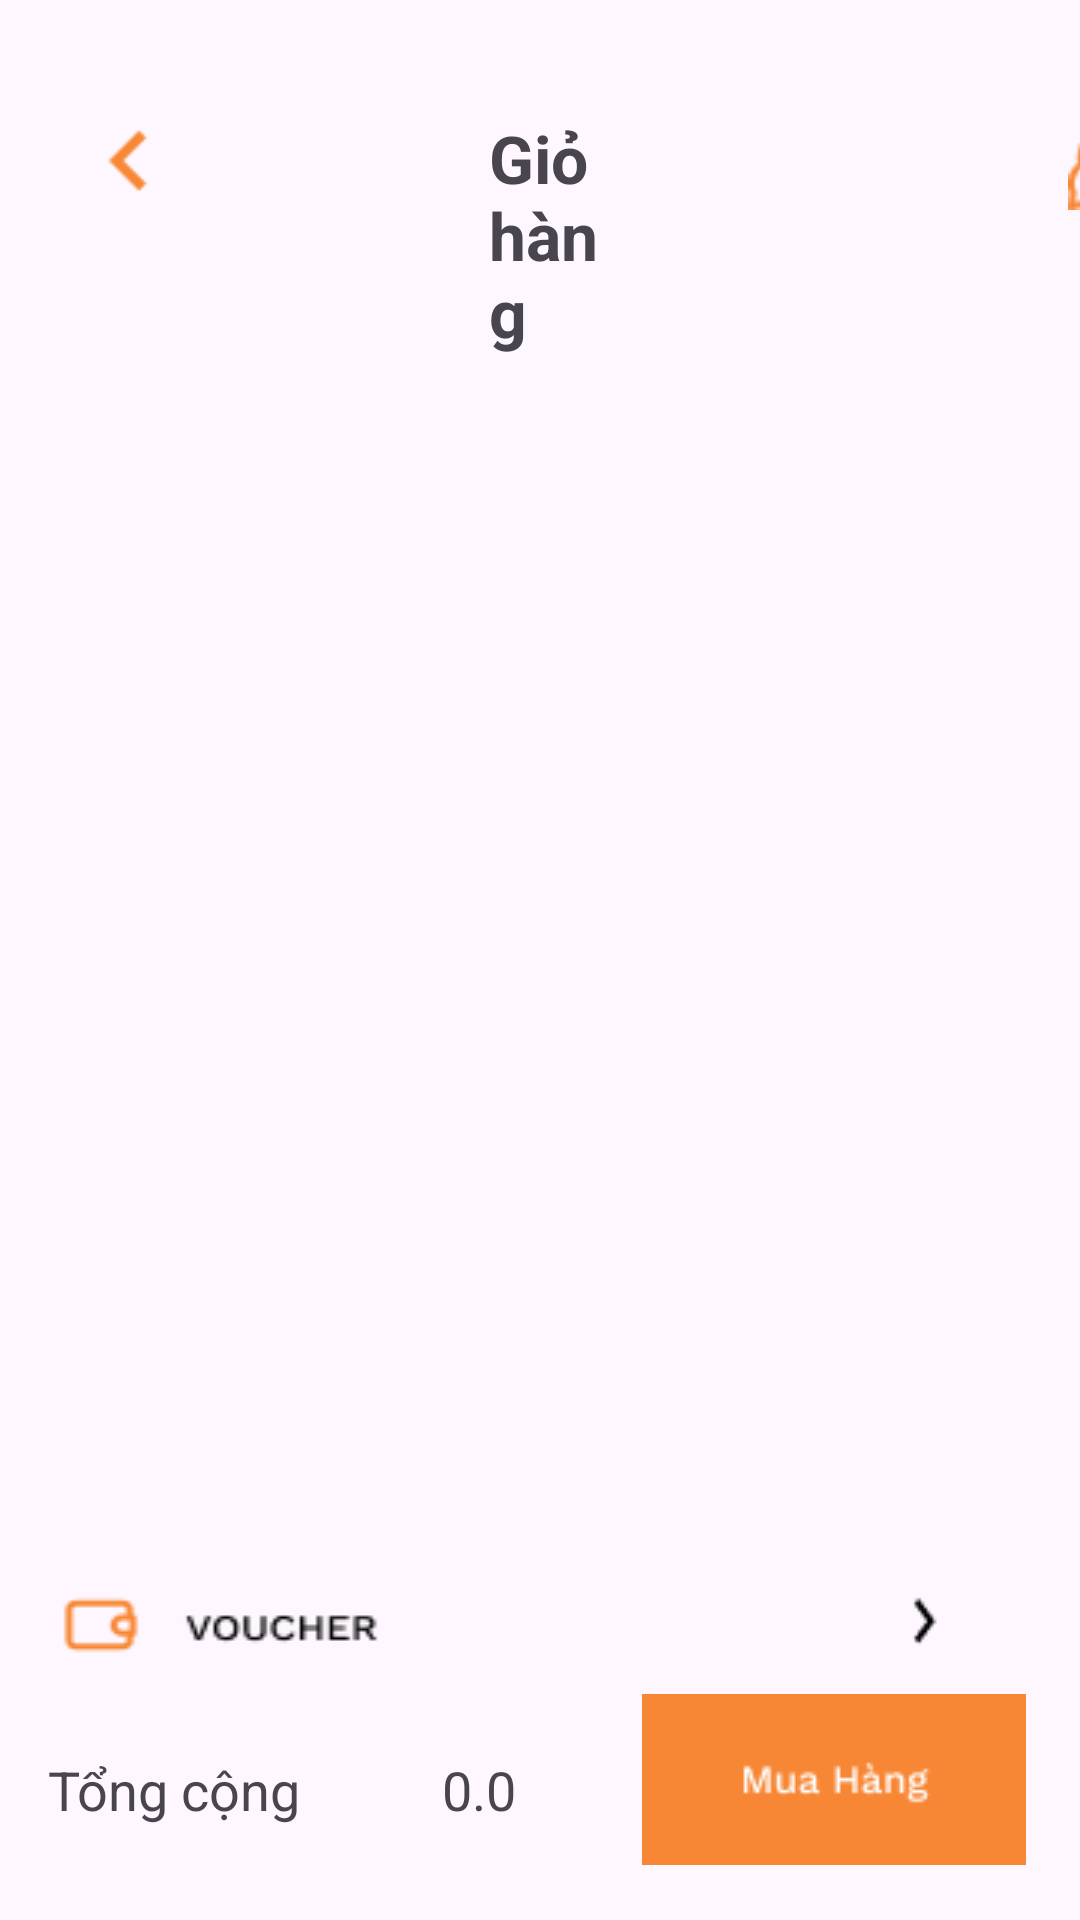

Icon click points for this 1080px×1920px phone screenshot, format point (x, y):
keyboard arrow left: point (127, 160)
